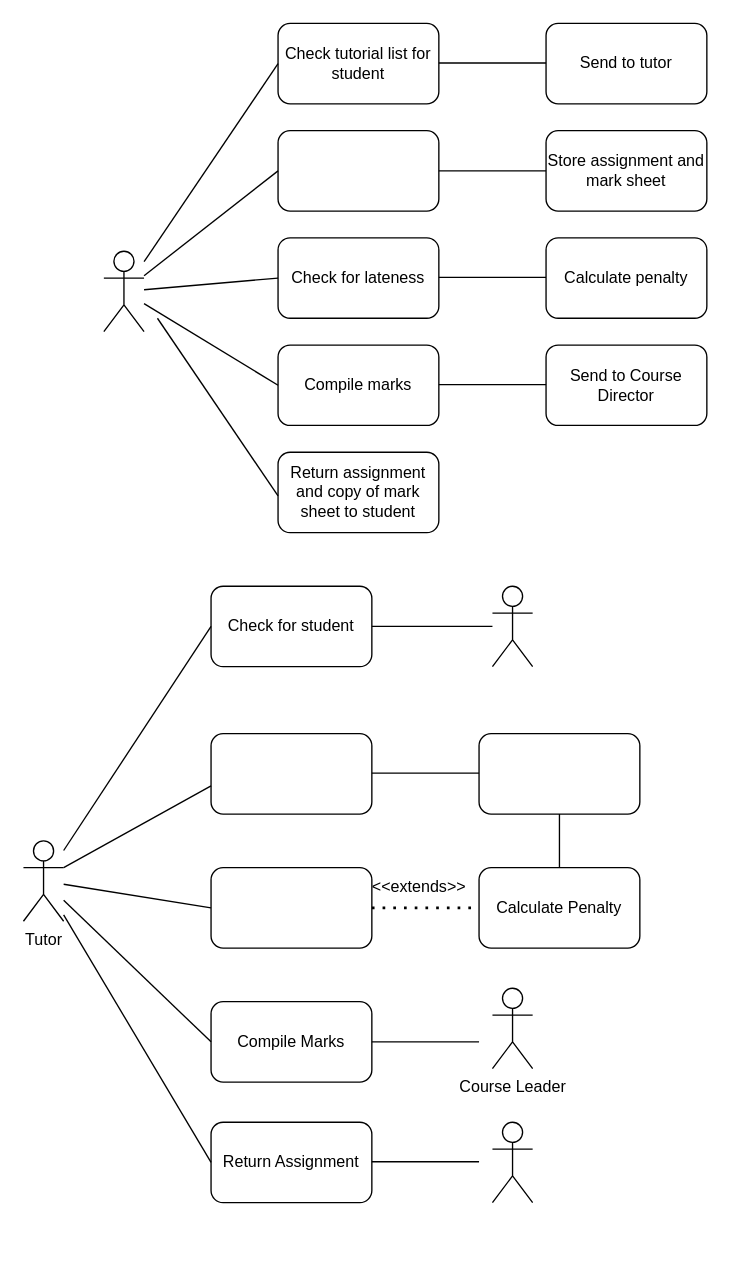
This 730x1274 diagram has some shape labels left out. Each missing label, with the centre of its shape:
"Check Lateness" belongs at (291,907).
"Correct Tutor" belongs at (512,626).
"Mark Assignment" belongs at (291,773).
"Mark Assignment and mark sheet" belongs at (358,170).
"Module Organizer" belongs at (123,291).
"Record Marks" belongs at (559,773).
"Studnet" belongs at (512,1162).
